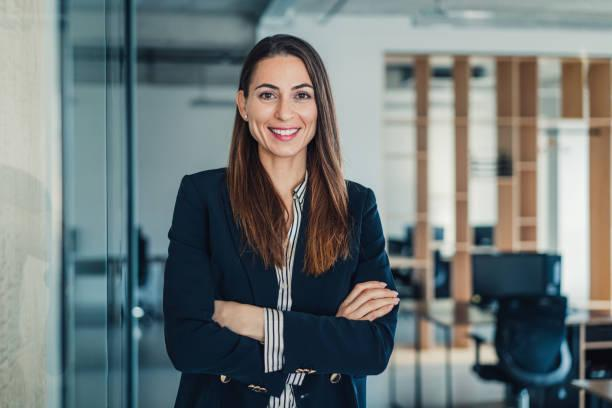no_goggle: (245, 84, 328, 111)
no_helmet: (226, 25, 335, 91)
no_vest: (154, 149, 405, 408)
